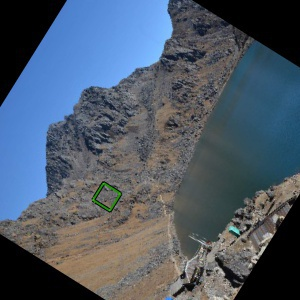square: (90, 180, 123, 214)
